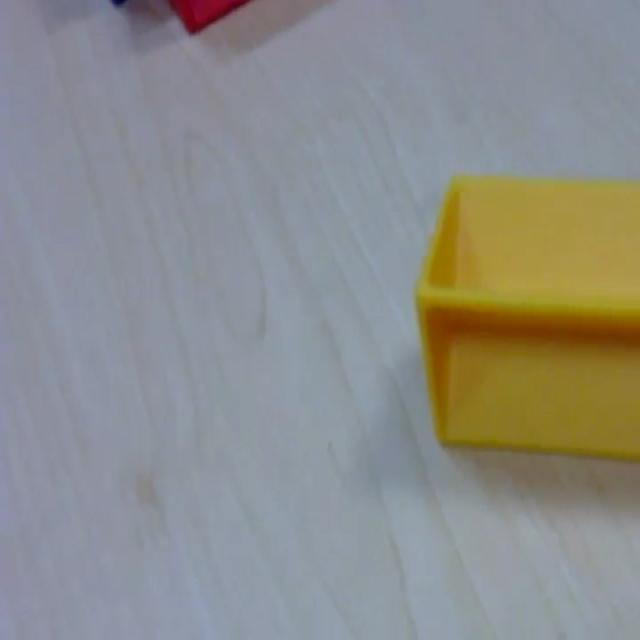yellow_block: (414, 172, 639, 461)
